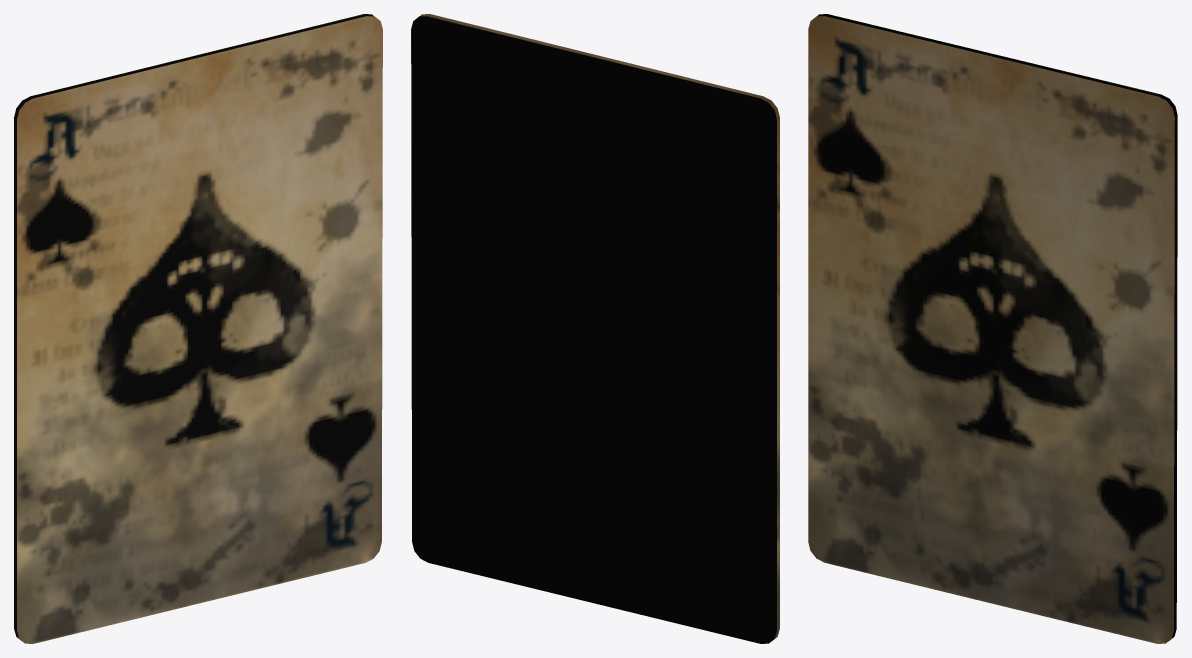
The model's file is Card.014.fbx.
The picture shows the model from 3 angles, left to right: view 1: azimuth 30°, elevation 25°; view 2: azimuth 150°, elevation 25°; view 3: azimuth 330°, elevation 25°; orthographic projection.
Parts seen in each view (by area): view 1: Card.014; view 2: Card.014; view 3: Card.014.
Boxes of the visible parts, x1,y1,x2,y2 form: Card.014: [14, 14, 382, 643]; Card.014: [411, 14, 779, 643]; Card.014: [808, 14, 1177, 643].
Bounding box in the file's own units: 11.23 × 16.03 × 0.1561.
